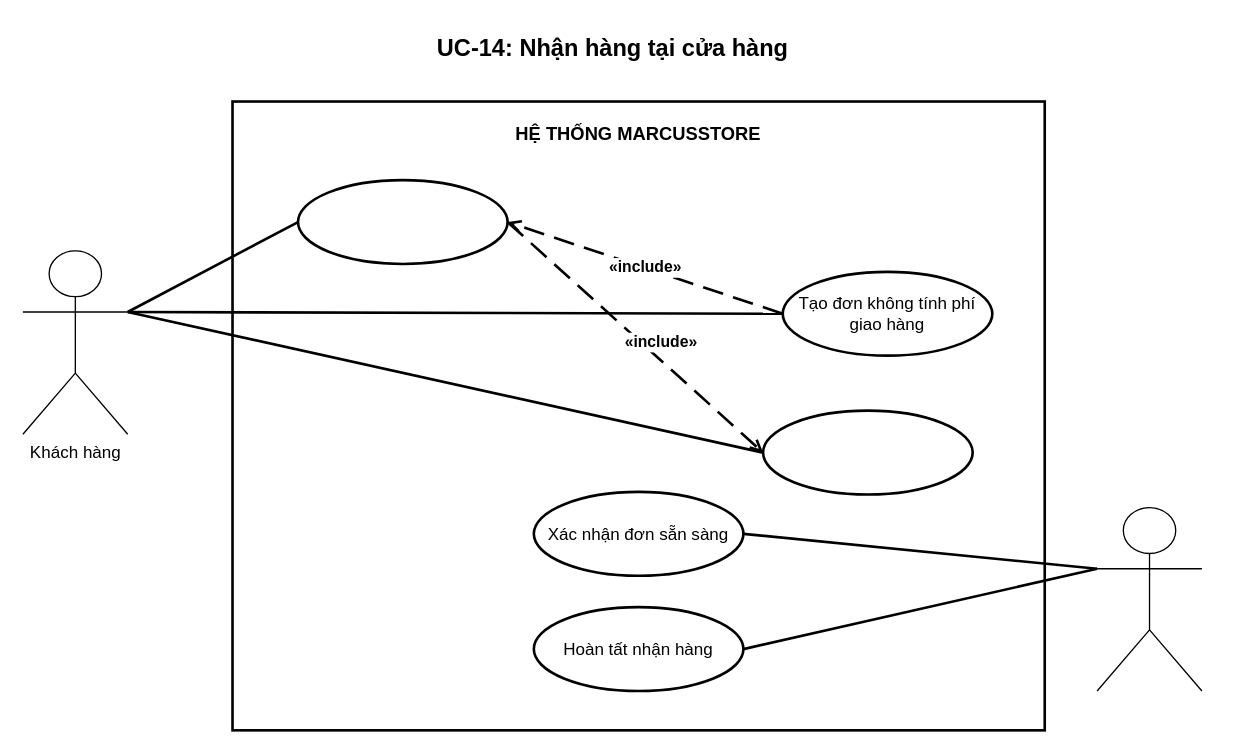
Image size: 1237x753. Some labels were removed from this diagram. Each missing label, with the box of its shape:
Chọn nhận tại cửa hàng: (296, 178, 508, 265)
Nhân viên/Admin: (1096, 506, 1202, 691)
Xem địa chỉ cửa hàng: (761, 409, 973, 495)
